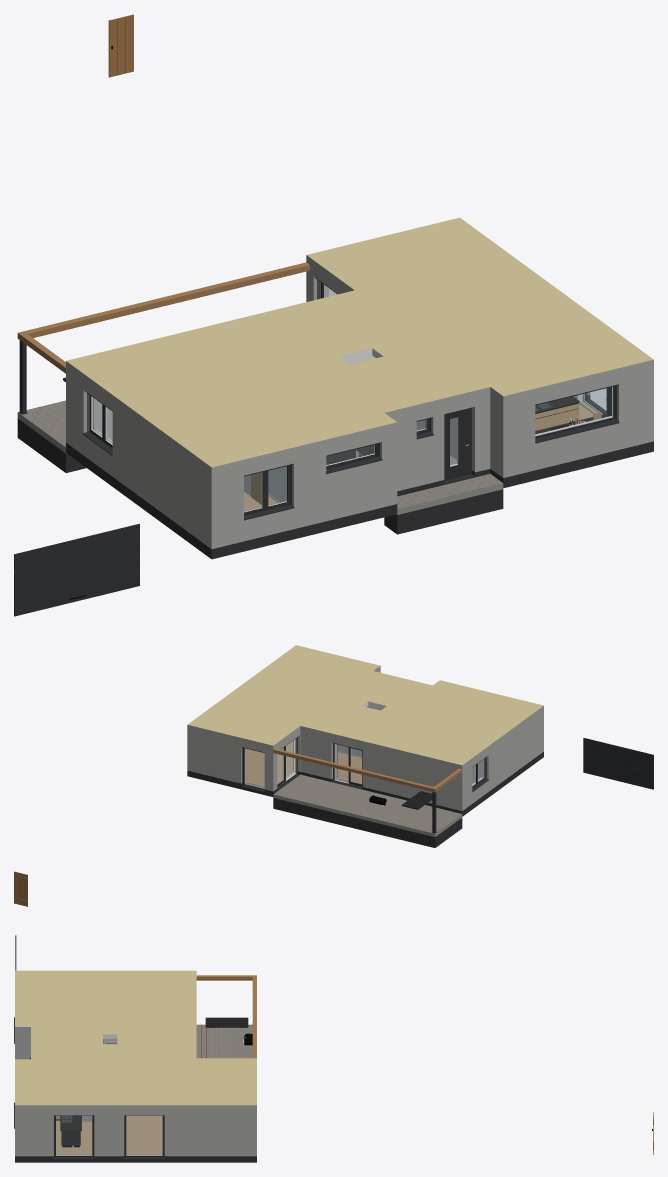
File: dum.glb
The picture shows the model from 3 angles, top to bottom: view 1: azimuth 30°, elevation 25°; view 2: azimuth 150°, elevation 25°; view 3: azimuth 270°, elevation 25°; orthographic projection. The views are drawn at different scales.
Visible parts, largest first — view 1: dum; view 2: dum; view 3: dum.
Boxes of the visible parts, box(x1,y1,x2,y2) form: dum: box(14, 14, 653, 616); dum: box(14, 645, 653, 906); dum: box(14, 935, 653, 1162).
Bounding box in the file's own units: 22.9 × 3.85 × 31.85.
